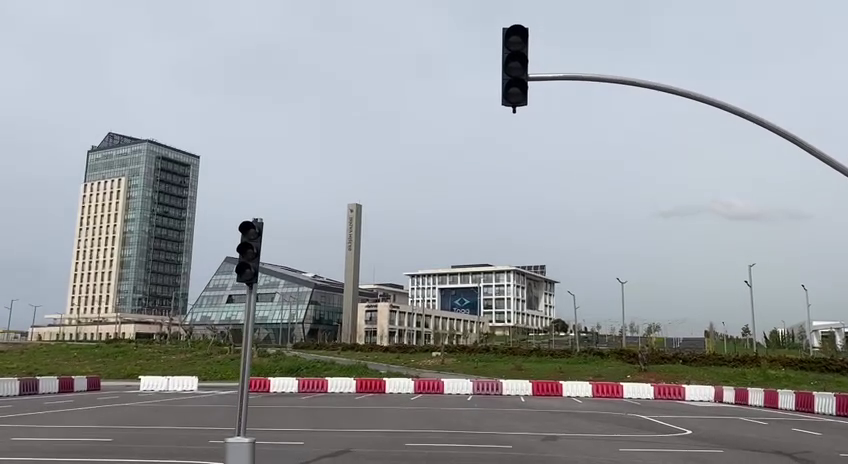trafficLight: (497, 20, 534, 116), (233, 213, 267, 290)
